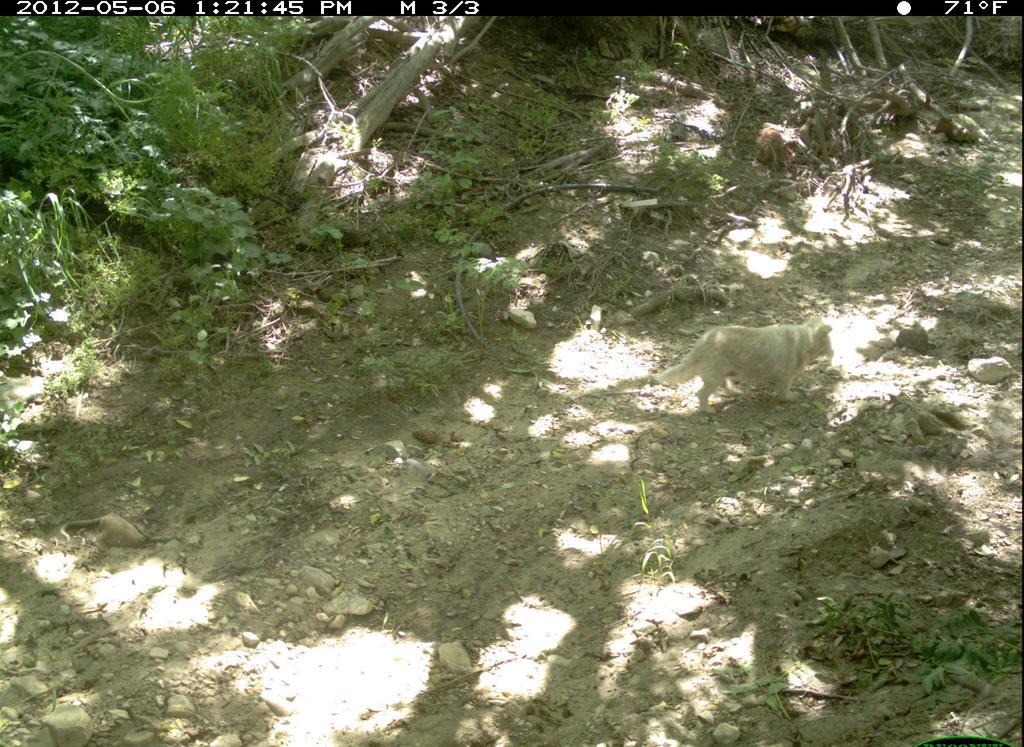dog: (652, 317, 843, 422)
